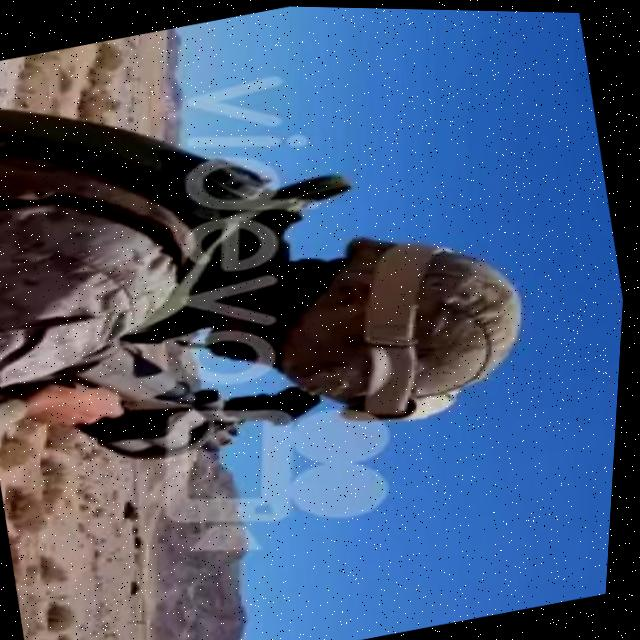rocket: (48, 298, 345, 509)
